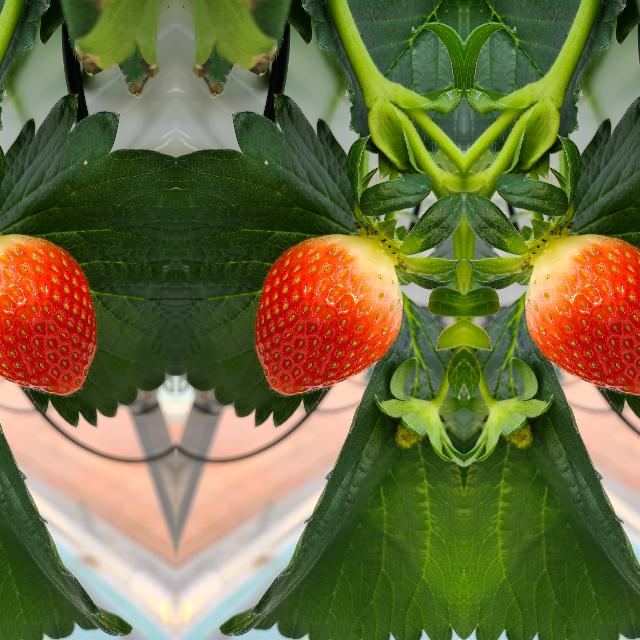Health_100: (252, 233, 404, 397), (522, 233, 640, 397), (0, 233, 98, 397)
